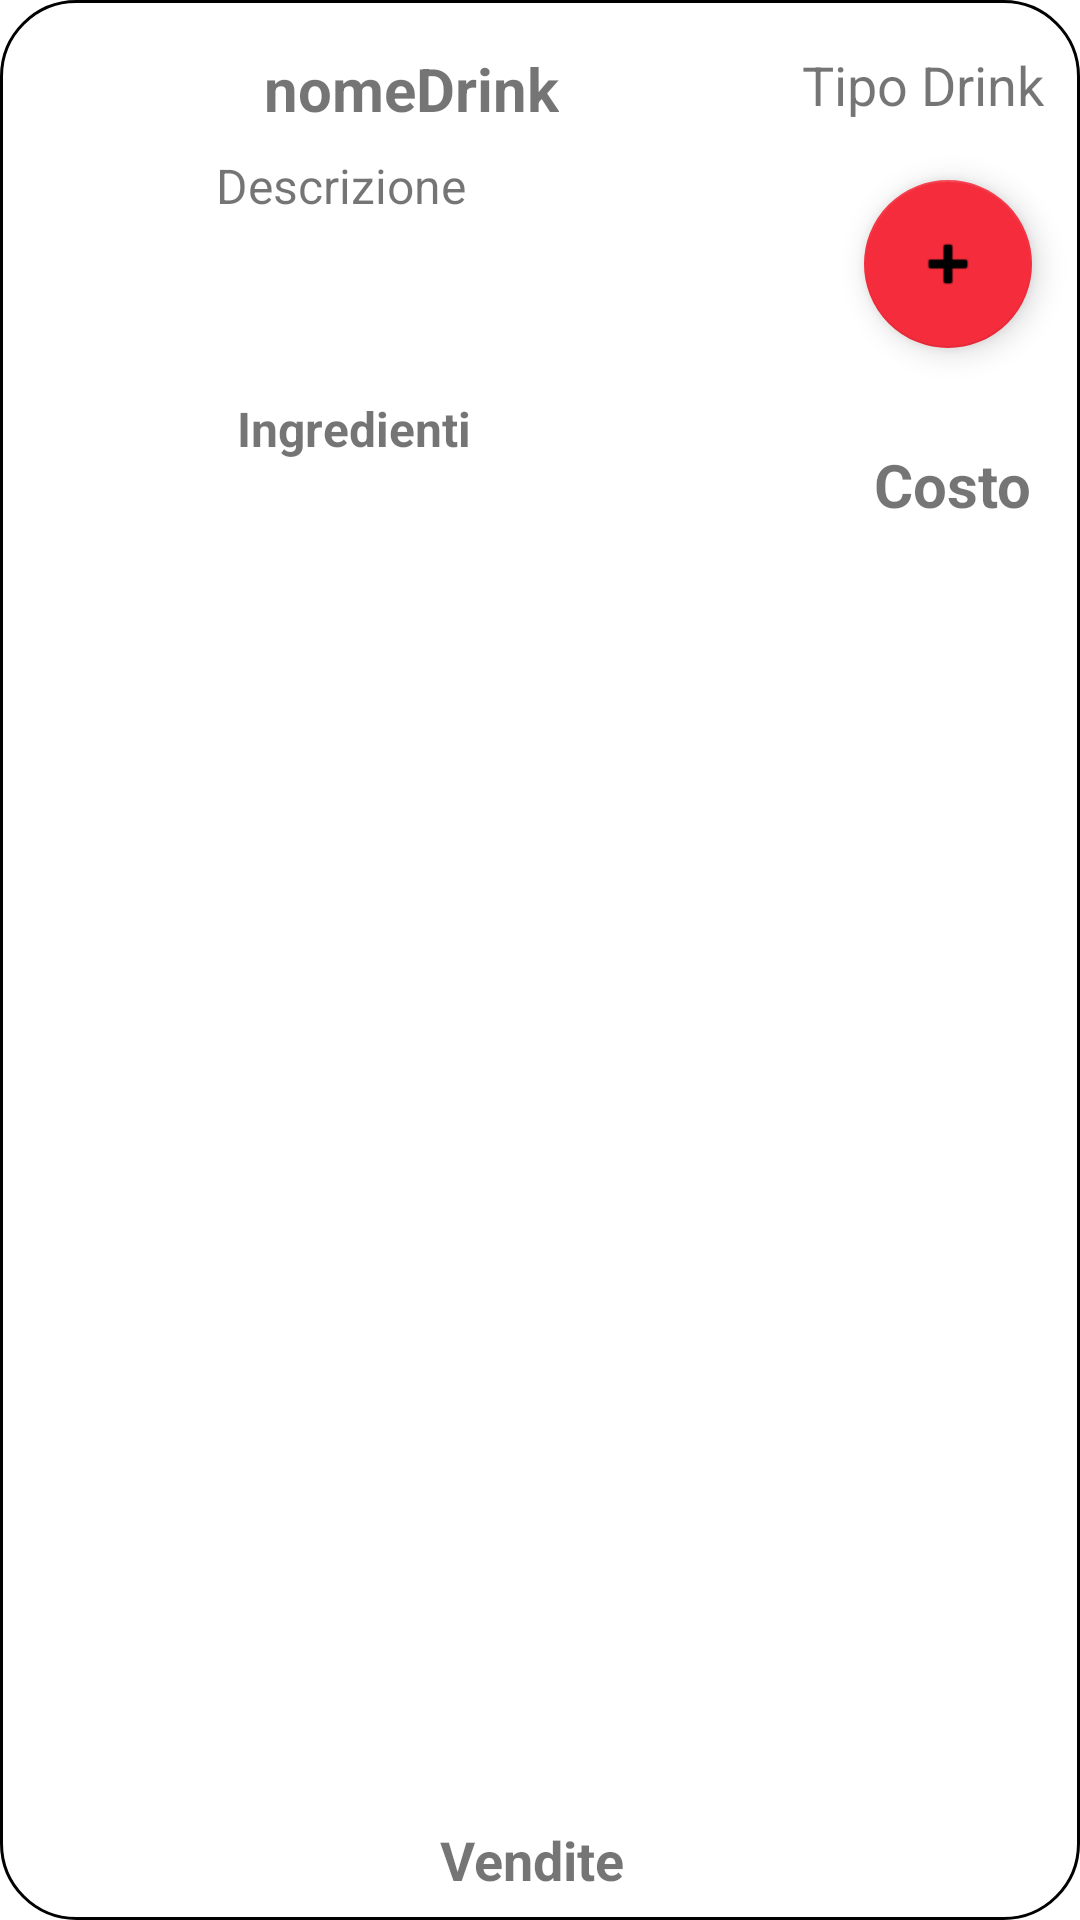

Screen size 1080×1920. Icon name, then its center in pixels as point (x, y):
add: point (948, 264)
